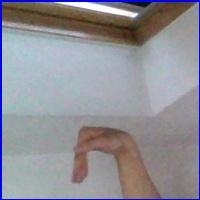del: (66, 124, 135, 190)
